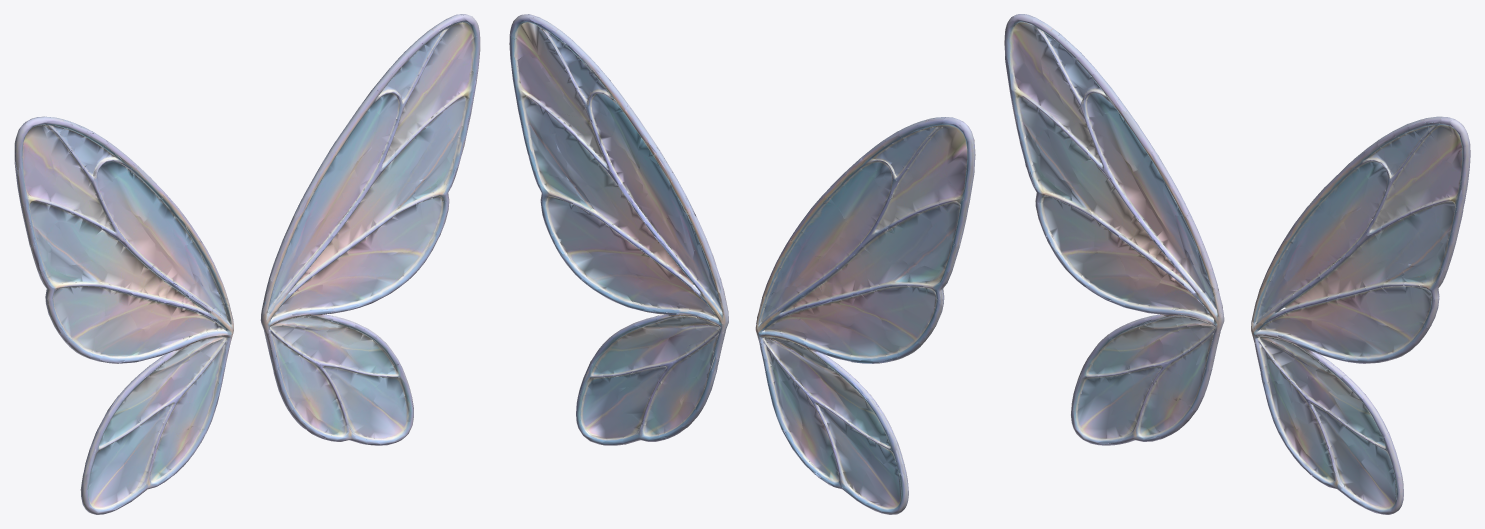
File: wings.glb
The picture shows the model from 3 angles, left to right: view 1: azimuth 30°, elevation 25°; view 2: azimuth 150°, elevation 25°; view 3: azimuth 330°, elevation 25°; orthographic projection.
Parts seen in each view (by area): view 1: wing-left, wing-right; view 2: wing-left, wing-right; view 3: wing-right, wing-left.
Boxes of the visible parts, x1,y1,x2,y2 form: wing-left: [260, 14, 480, 445]; wing-right: [14, 116, 233, 514]; wing-left: [509, 14, 728, 445]; wing-right: [755, 117, 975, 514]; wing-right: [1004, 14, 1224, 445]; wing-left: [1251, 116, 1470, 514].
Bounding box in the file's own units: 1.9 × 1.61 × 0.0346.
Materials: 1 (1 with a texture image).
